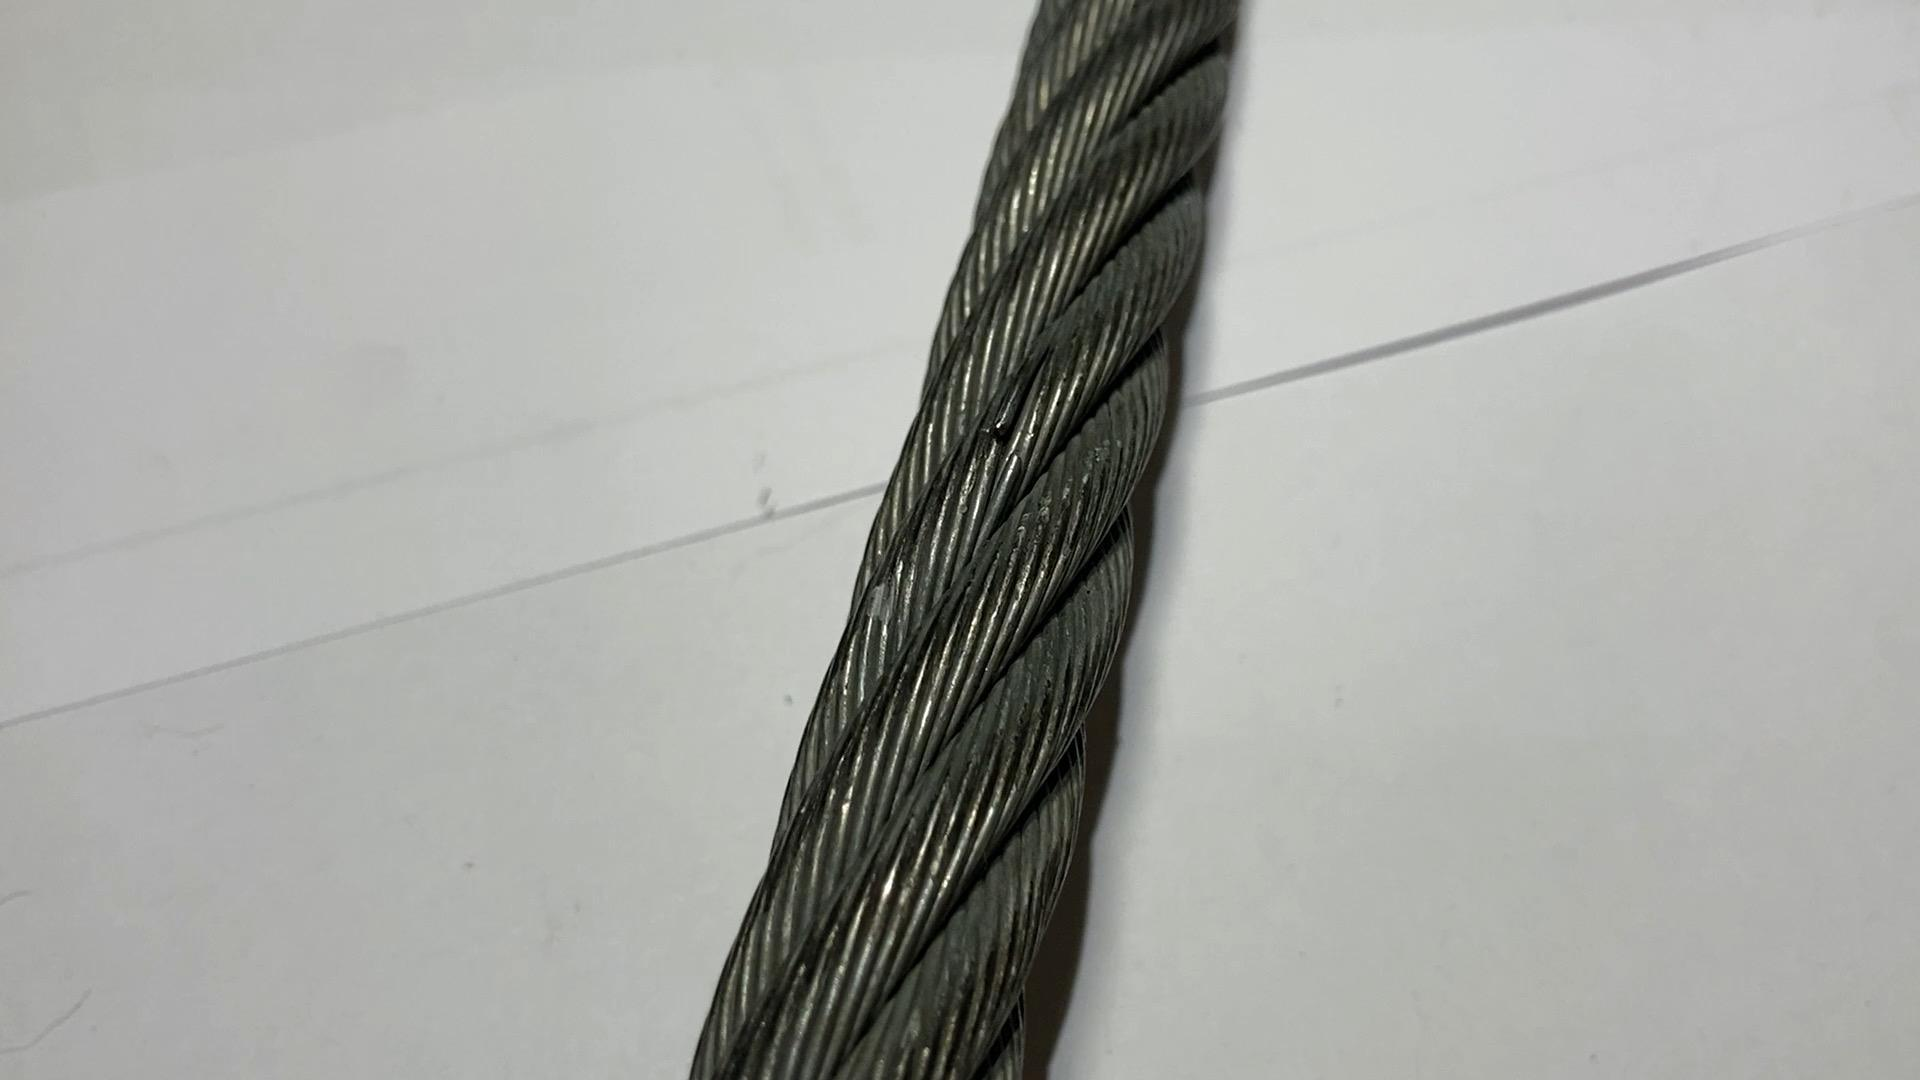break: (975, 357, 1055, 458)
